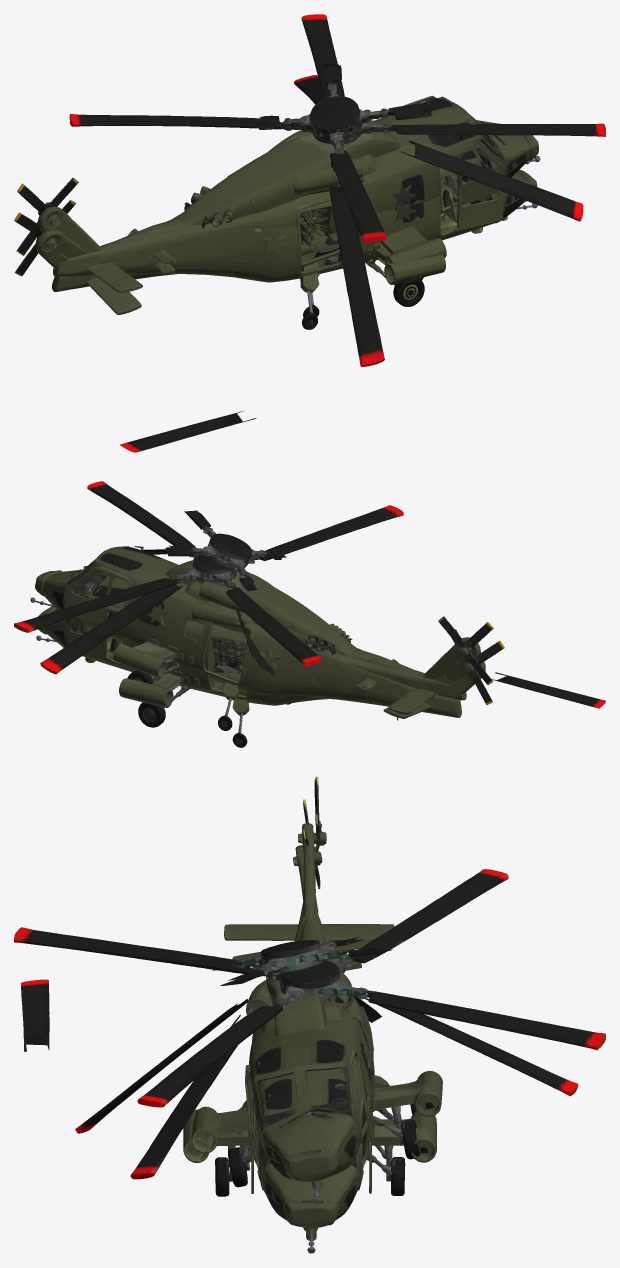
Rendered from heli_yanshuf.glb.
The picture shows the model from 3 angles, top to bottom: view 1: azimuth 30°, elevation 25°; view 2: azimuth 150°, elevation 25°; view 3: azimuth 270°, elevation 25°; orthographic projection. The views are drawn at different scales.
Parts seen in each view (by area): view 1: WRECK_hull_hull, hull_hull, WRECK_rotor_metal, rotor_metal; view 2: WRECK_hull_hull, hull_hull, rotor_metal, WRECK_rotor_metal; view 3: WRECK_hull_hull, hull_hull, rotor_metal, WRECK_rotor_metal.
Part boxes in pixels (<box>): WRECK_hull_hull: <box>14,95,540,317</box>; hull_hull: <box>16,150,537,329</box>; WRECK_rotor_metal: <box>120,63,583,452</box>; rotor_metal: <box>69,14,605,242</box>; WRECK_hull_hull: <box>30,546,504,730</box>; hull_hull: <box>36,575,493,747</box>; rotor_metal: <box>14,481,403,666</box>; WRECK_rotor_metal: <box>40,510,605,708</box>; WRECK_hull_hull: <box>191,799,442,1203</box>; hull_hull: <box>183,776,436,1253</box>; rotor_metal: <box>14,869,605,1107</box>; WRECK_rotor_metal: <box>20,937,578,1179</box>.
Bounding box in the file's own units: 5.39 × 1.91 × 4.32.
1 material, 1 textured.
